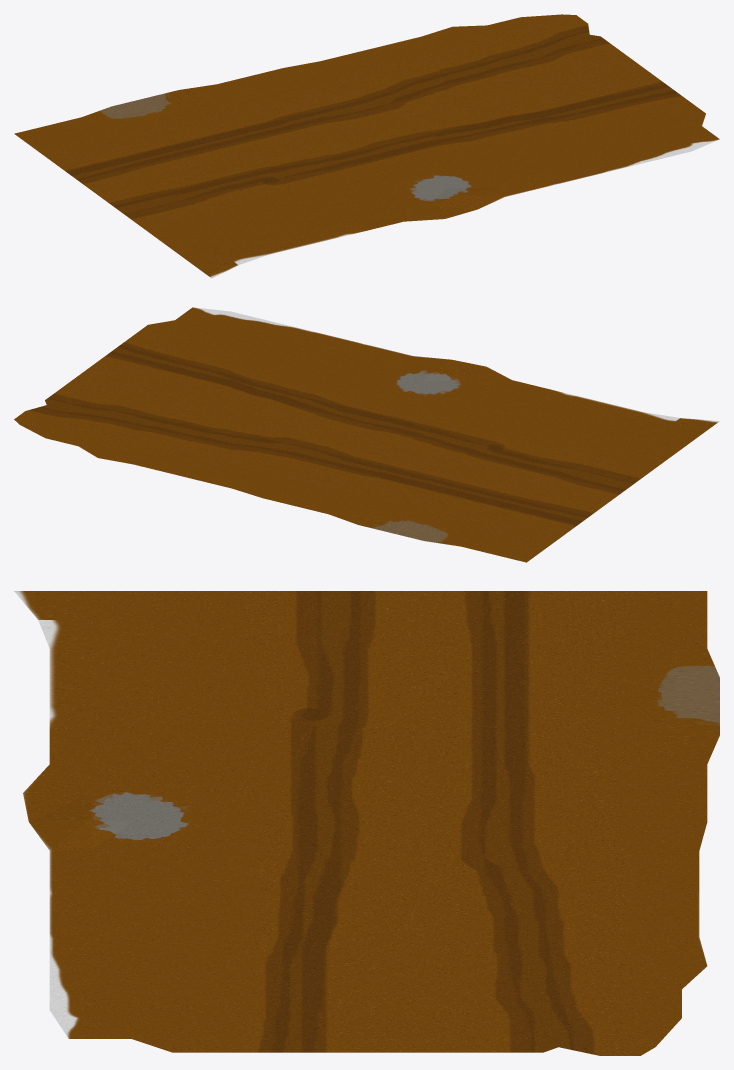
Rendered from road.obj.
The picture shows the model from 3 angles, top to bottom: view 1: azimuth 30°, elevation 25°; view 2: azimuth 150°, elevation 25°; view 3: azimuth 270°, elevation 25°; orthographic projection. The views are drawn at different scales.
Parts seen in each view (by area): view 1: Plane.001; view 2: Plane.001; view 3: Plane.001.
Part boxes in pixels (left/top/right/bottom): Plane.001: left=14, top=14, right=719, bottom=278; Plane.001: left=14, top=307, right=719, bottom=562; Plane.001: left=14, top=591, right=719, bottom=1055.
Size of the model in its own units: 23.5 by 0.058 by 15.09.
1 material, 1 textured.
